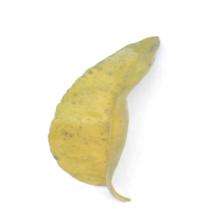greening: (47, 87, 136, 177)
